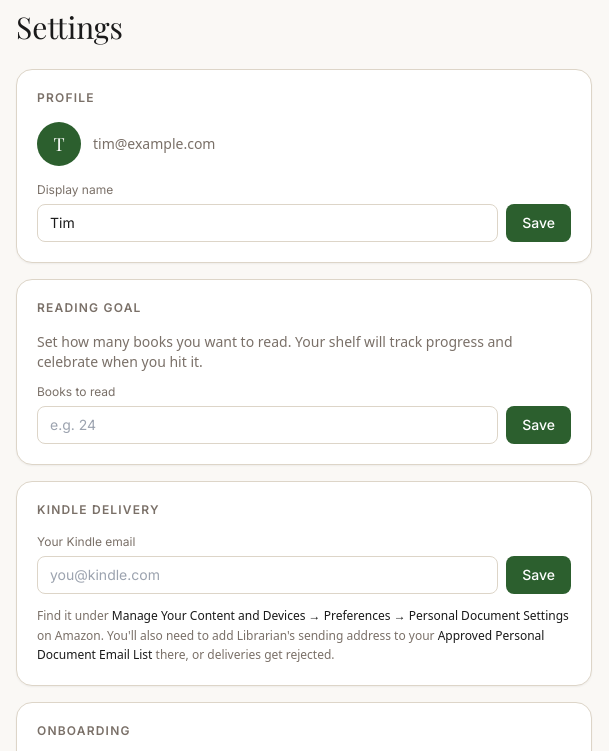
Settings — reading goal › surfaces an error and does not crash when the save fails
Type "12" into the number field with placeholder "e.g. 24". click: (268, 425)
box: [37,406,498,444]
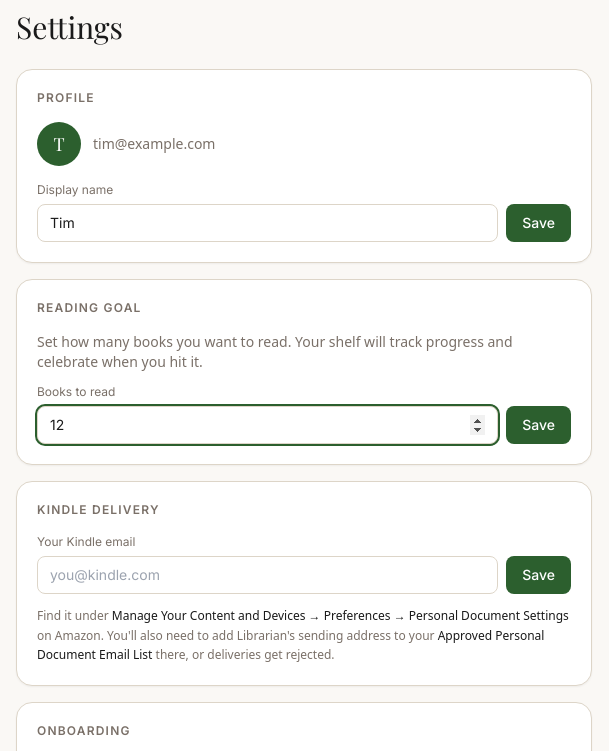
Click the button with aria-label "Save reading goal". click: (539, 425)
box: [506,406,571,444]
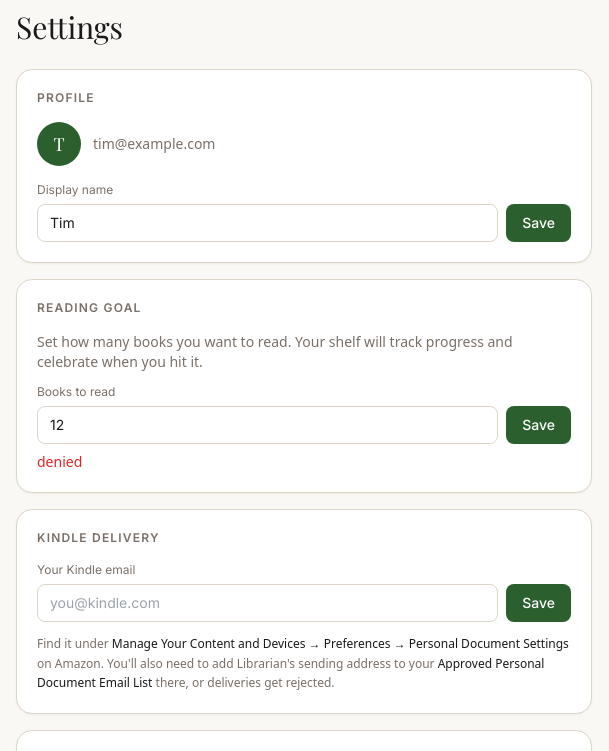
Check: the text "denied" is shown, box [37,452,82,471]
